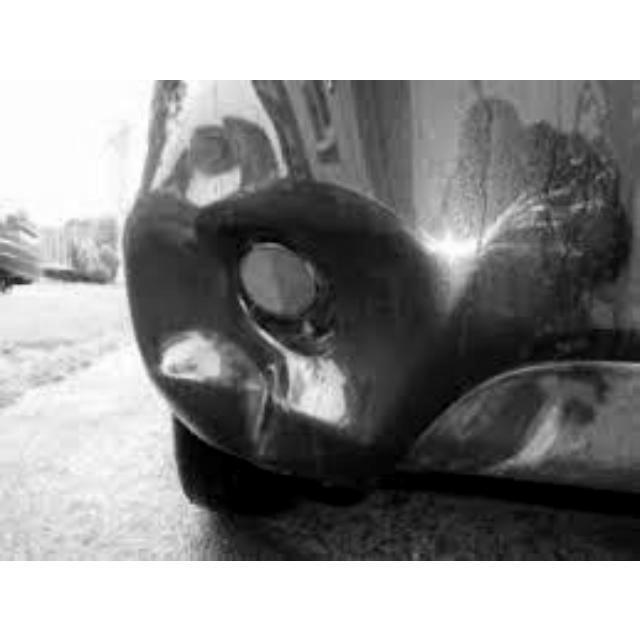rear-bumper-dent: (127, 144, 636, 524)
